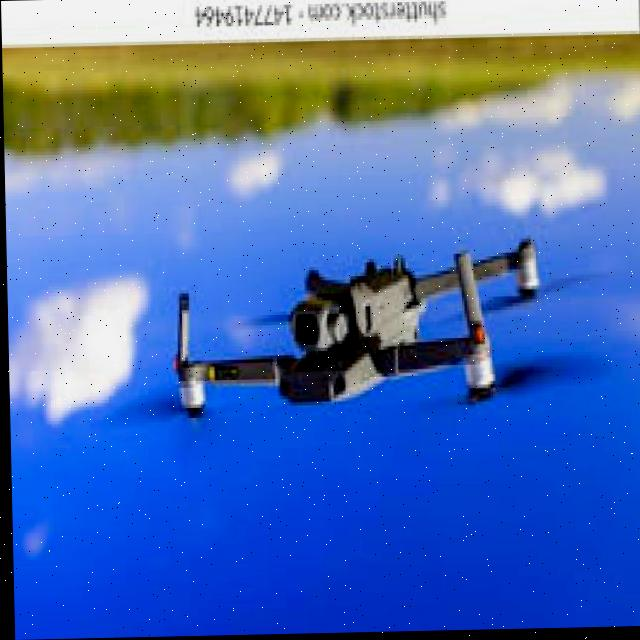drone: (113, 195, 599, 457)
